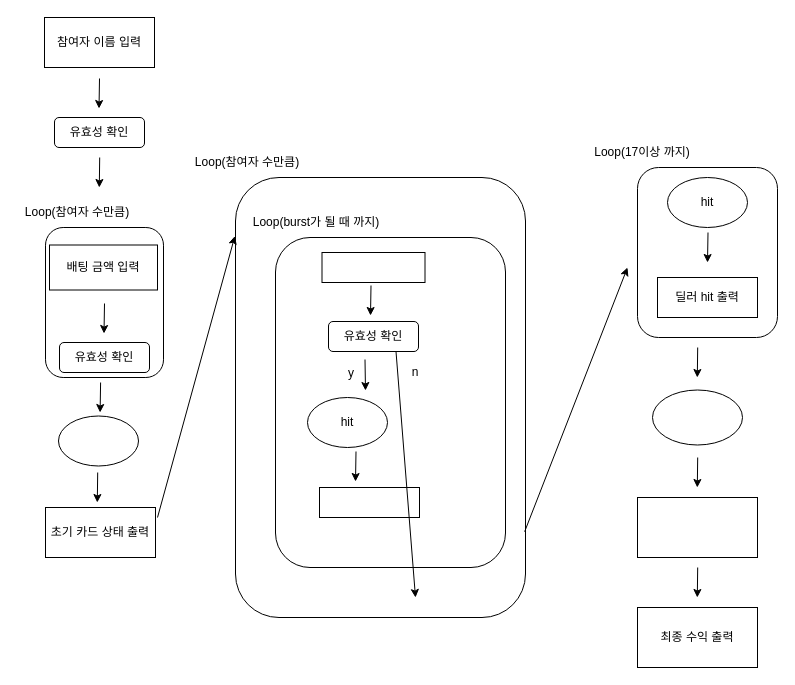
This 795x685 diagram has some shape labels left out. The centre of each missing label's shape, as x and y in pixels:
승패 판단 로직: [697,417]
카드 결과 출력: [697,527]
카드 받을지 입력: [373,267]
카드 분배 로직: [98,440]
현재 카드 출력: [369,502]
